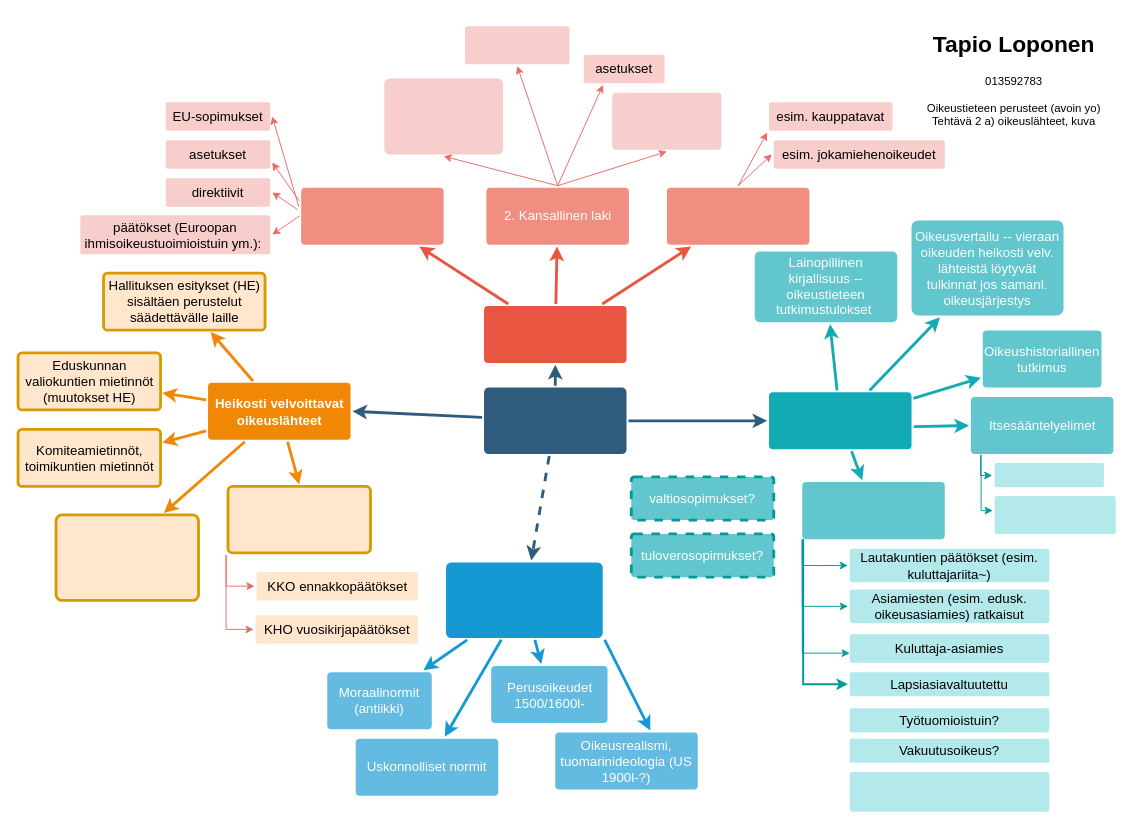
Some shapes in this 1131 by 827 pixel diagram are drawn without their labels. Here are the shapes that lost their labels. From the top down, the box of each, then its label:
(465, 26, 569, 64): Kansallinen perustuslaki
(384, 78, 503, 154): Säädökset (lait) oikeudenaloittain - pykälät - normit
(612, 92, 721, 149): ministeriöiden päätökset ja ohjeet
(301, 187, 443, 244): 1. Eurooppaoikeus
(666, 187, 809, 244): 3. Maan tapa
(484, 305, 626, 362): Vahvasti velvoittavat oikeuslähteet
(484, 387, 626, 454): Oikeuslähteet
(769, 392, 911, 449): Sallitut oikeuslähteet
(994, 463, 1103, 487): JSN
(226, 484, 371, 554): Tuomioistuinten ennakkoratkaisut eli prejudikaatit
(802, 482, 944, 539): Pehmeä sääntely
(994, 495, 1115, 533): asianajajaliiton valvontalautakunta
(54, 513, 200, 601): Lakihankkeet ja säädösvalmistelu - oikeusministeriö - valtioneuvosto - STM
(446, 562, 602, 637): Muut? Historialliset, nykyään eivät virallisia oikeuslähteitä Suomessa?
(849, 771, 1049, 811): Tietosuojalautakunta ja -valtuutettu
